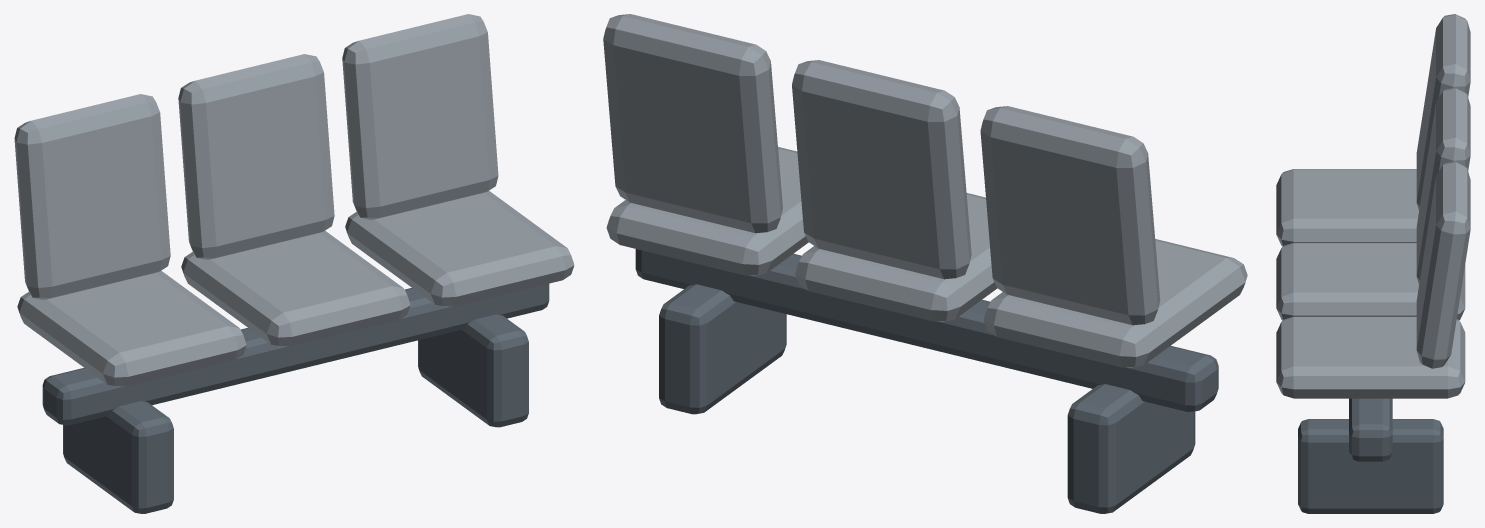
File: 5_Service.fbx
3 renders of one model, left to right at view 1: azimuth 30°, elevation 25°; view 2: azimuth 150°, elevation 25°; view 3: azimuth 270°, elevation 25°, orthographic. The views are drawn at different scales.
Parts seen in each view (by area): view 1: Body; view 2: Body; view 3: Body.
Boxes of the visible parts, x1=… form: Body: x1=14, y1=14, x2=574, y2=513; Body: x1=603, y1=14, x2=1247, y2=513; Body: x1=1276, y1=14, x2=1470, y2=513.
Size of the model in its own units: 1.8 by 1.2 by 0.6679.
